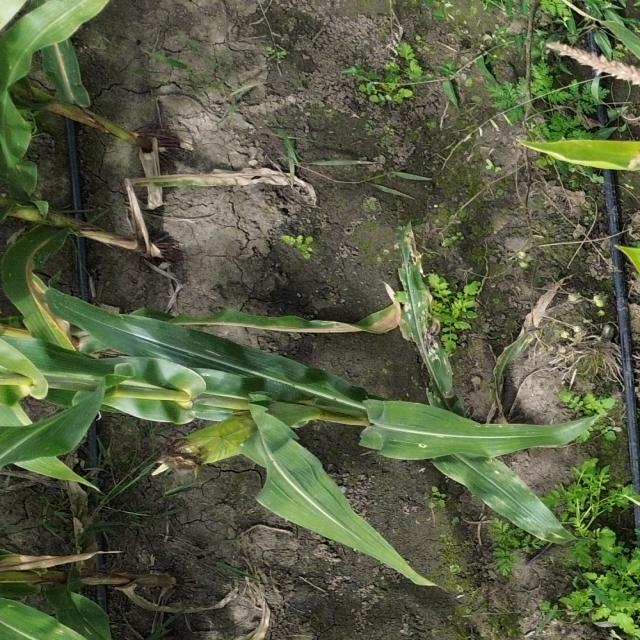gray-leaf-spot: (466, 466, 562, 548)
southern-leaf-blight: (398, 410, 513, 470)
